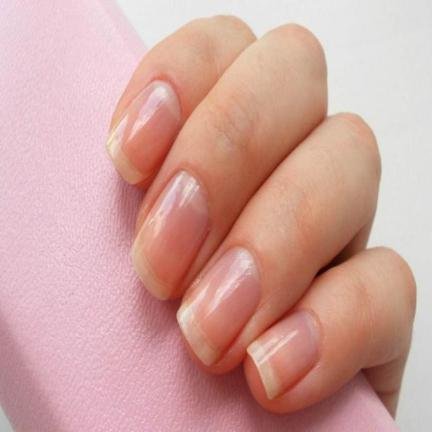Nail: (130, 169, 210, 302), (176, 245, 262, 367), (105, 79, 181, 187), (246, 310, 322, 400)
